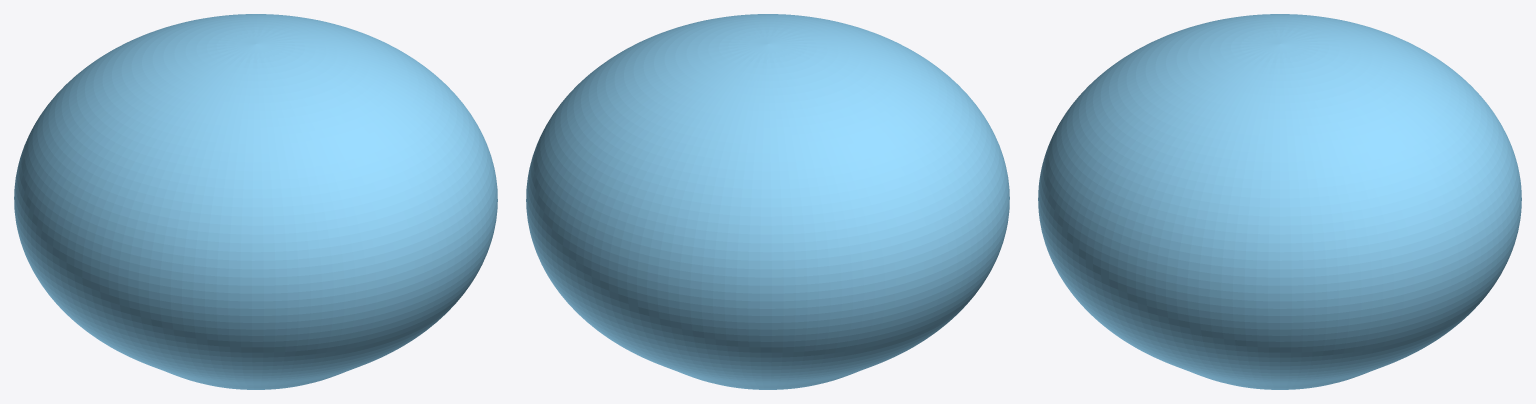
Rendered from Slime_Blue.fbx.
3 renders of one model, left to right at view 1: azimuth 30°, elevation 25°; view 2: azimuth 150°, elevation 25°; view 3: azimuth 270°, elevation 25°, orthographic.
Visible parts, largest first — view 1: Slime_Blue; view 2: Slime_Blue; view 3: Slime_Blue.
Boxes of the visible parts, x1,y1,x2,y2 form: Slime_Blue: (14, 14, 497, 389); Slime_Blue: (526, 14, 1009, 389); Slime_Blue: (1038, 14, 1521, 389).
Bounding box in the file's own units: 0.9872 × 0.6992 × 0.9872.
